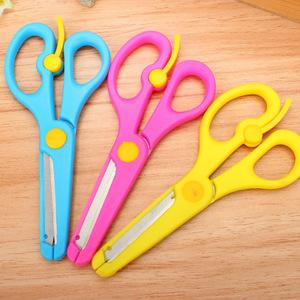scissor: (31, 14, 300, 266)
